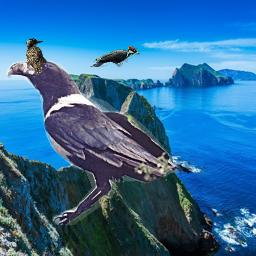Crow: (6, 59, 183, 225)
Woodpecker: (90, 46, 140, 67), (26, 38, 48, 76)
